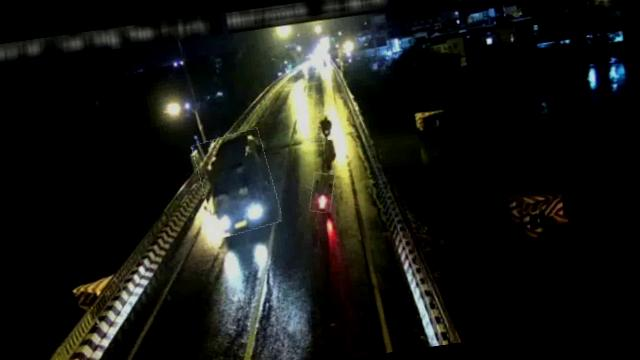Bike: (306, 170, 336, 214), (314, 113, 334, 141)
Truck: (193, 128, 280, 237)
